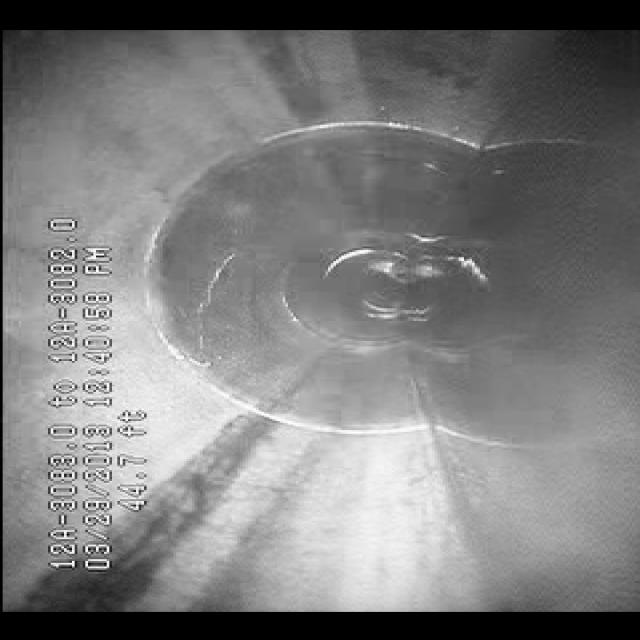Crack: (166, 256, 242, 354)
